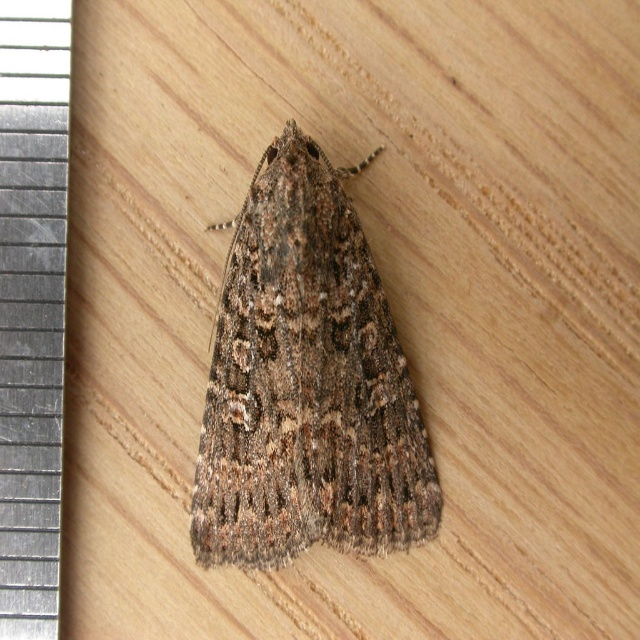Moths and butterflies: (186, 116, 444, 570)
